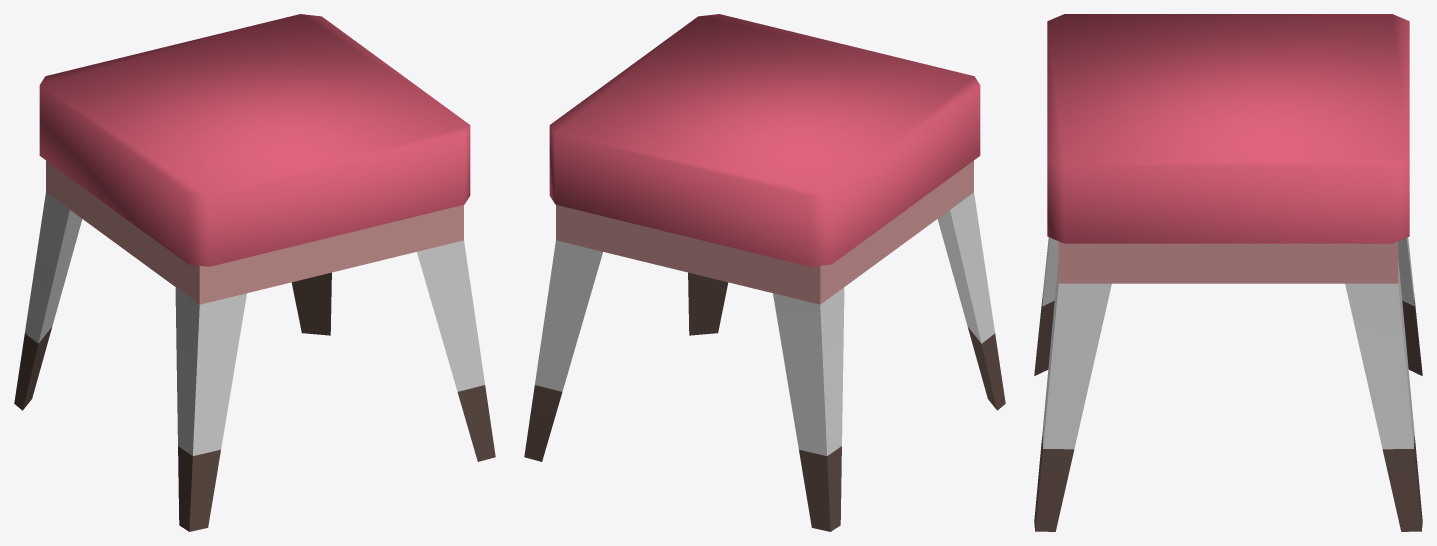
File: interior_C_003.fbx
3 renders of one model, left to right at view 1: azimuth 30°, elevation 25°; view 2: azimuth 150°, elevation 25°; view 3: azimuth 270°, elevation 25°, orthographic. The views are drawn at different scales.
Visible parts, largest first — view 1: interior_C_003; view 2: interior_C_003; view 3: interior_C_003.
Boxes of the visible parts, x1=… form: interior_C_003: x1=14, y1=14, x2=495, y2=531; interior_C_003: x1=524, y1=14, x2=1005, y2=531; interior_C_003: x1=1034, y1=14, x2=1422, y2=531.
Bounding box in the file's own units: 41.34 × 41.71 × 40.91.
